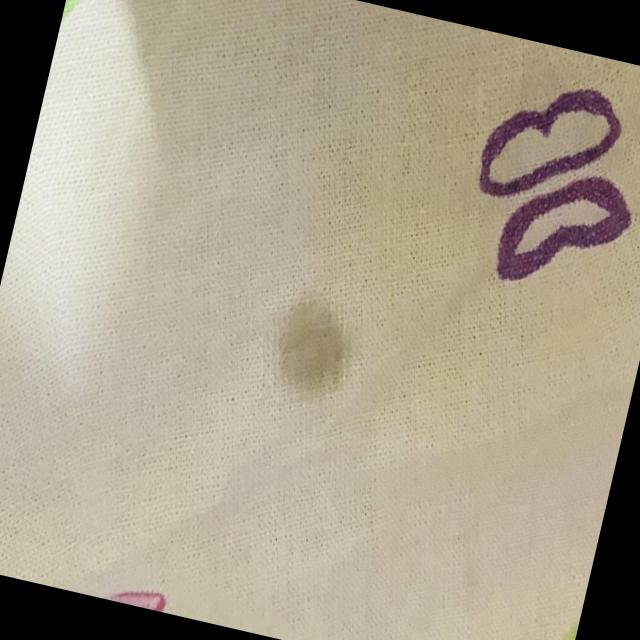stain: (260, 288, 358, 402)
